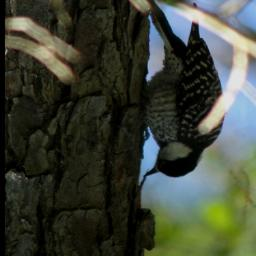Woodpecker: (140, 0, 226, 179)
